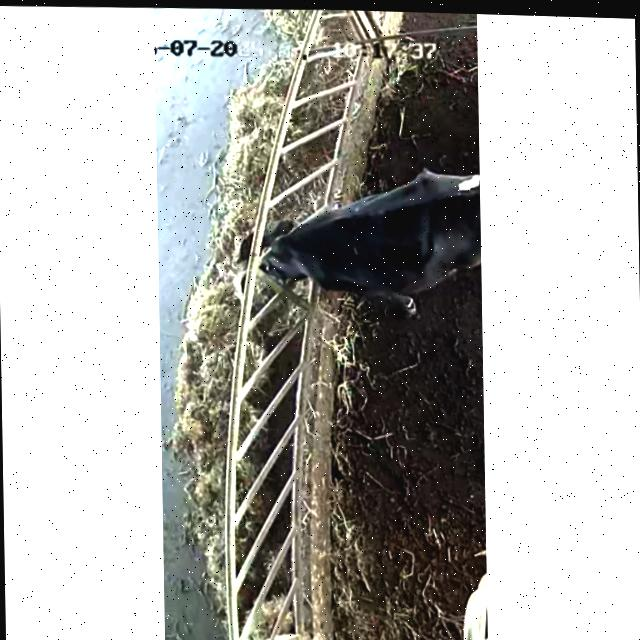eat: (188, 190, 382, 302)
